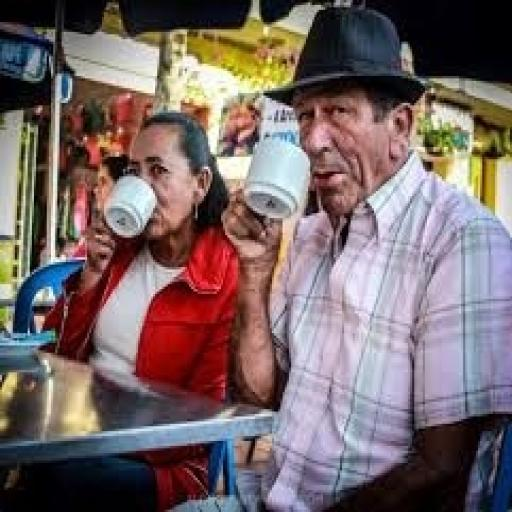drinking: (240, 135, 310, 220), (102, 172, 157, 238)
